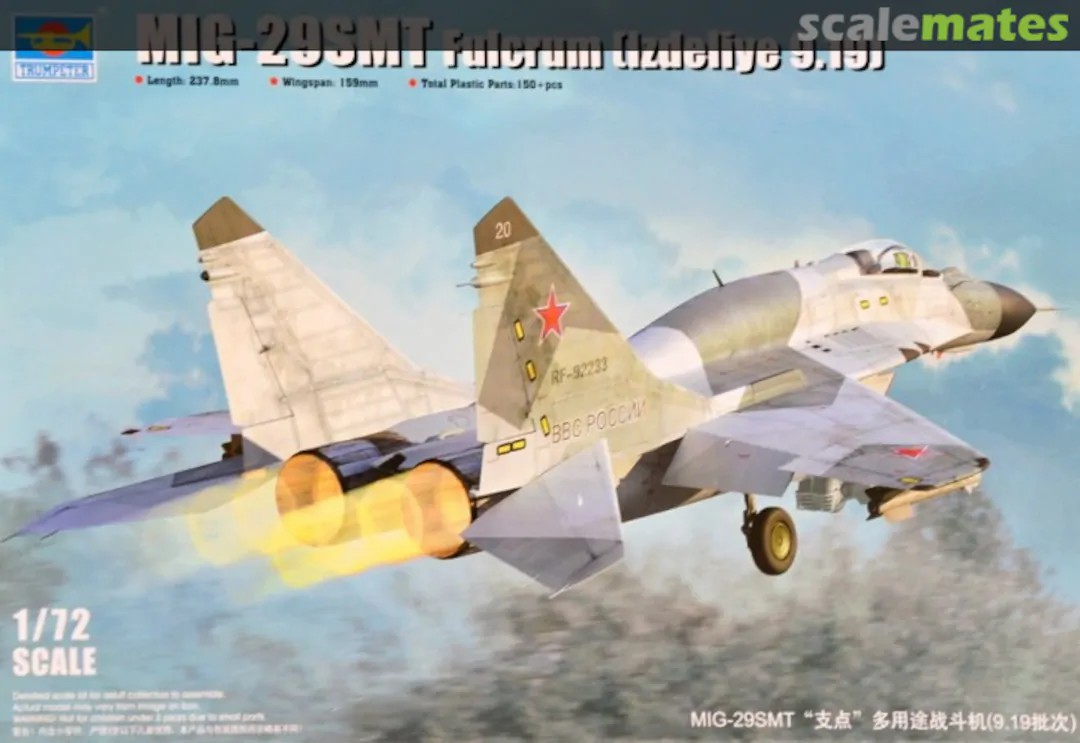Mig-29: (82, 157, 1069, 580)
